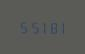eight: (45, 20, 53, 34)
five: (18, 19, 26, 33), (27, 19, 35, 33)
one: (36, 19, 44, 34), (54, 20, 62, 34)
